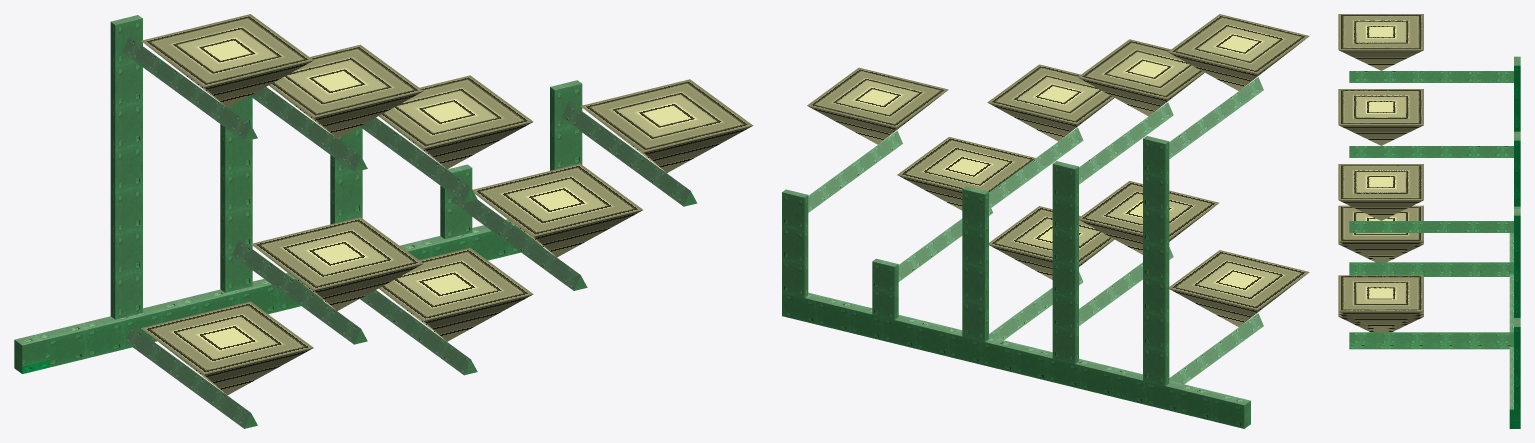
Rendered from rc_dorifu0.glb.
3 views of the same model, side by side, from view 1: azimuth 30°, elevation 25°; view 2: azimuth 150°, elevation 25°; view 3: azimuth 270°, elevation 25° (orthographic). The views are drawn at different scales.
Visible parts, largest first — view 1: rc_dorifu0; view 2: rc_dorifu0; view 3: rc_dorifu0.
Part boxes in pixels (x1,y1,x2,y2): rc_dorifu0: (14, 14, 753, 428); rc_dorifu0: (782, 14, 1309, 428); rc_dorifu0: (1338, 14, 1520, 428).
Size of the model in its own units: 275 by 159 by 106.
Materials: 2 (2 with a texture image).
